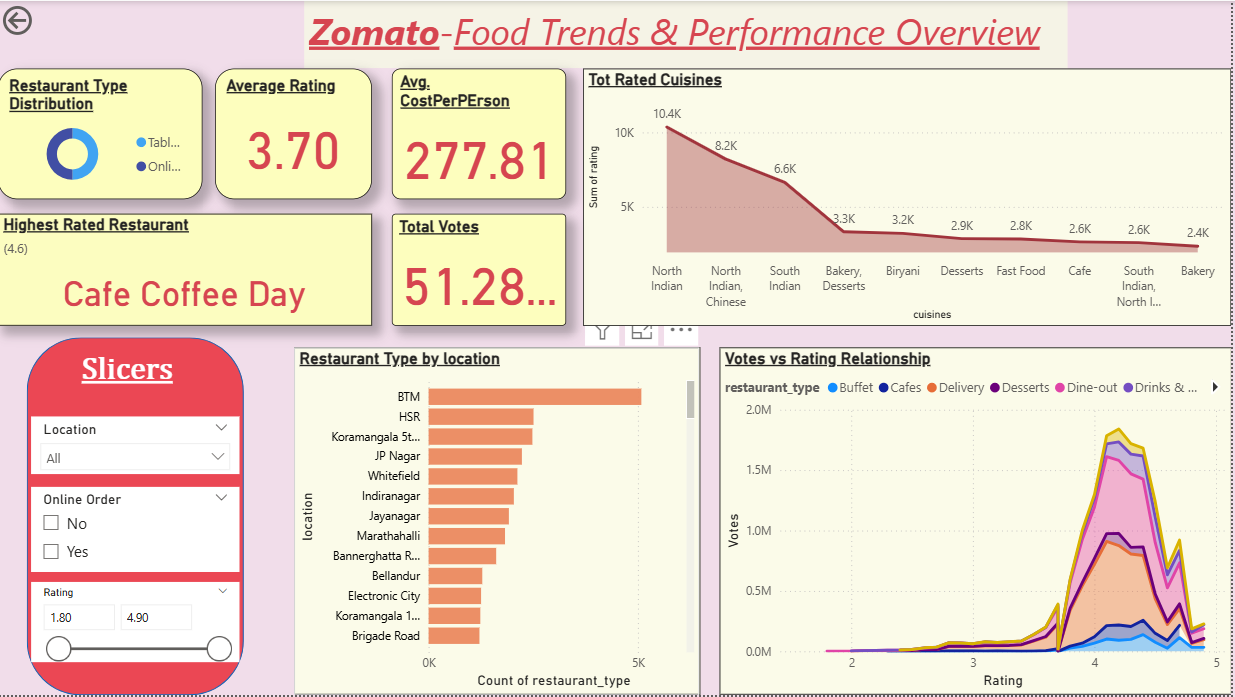

The page's visual inventory and layout, read from the dashboard file:
{"tool":"powerbi","page":{"name":"Page 1","canvas":[1280,720],"ordinal":0},"visuals":[{"type":"donutChart","title":"Restaurant  Type Distribution ","fields":{"Y":["CountNonNull(zomato_clean_data (1).book_table)","CountNonNull(zomato_clean_data (1).online_order)"]},"box":[0,70.1,211.9,135.8],"z":0},{"type":"clusteredBarChart","title":"Restaurant Type by location","fields":{"Category":["zomato_clean_data (1).location"],"Y":["CountNonNull(zomato_clean_data (1).restaurant_type)"]},"box":[306.7,360,421.7,360],"z":1000},{"type":"areaChart","title":"Tot Rated Cuisines","fields":{"Category":["zomato_clean_data (1).cuisines"],"Y":["Sum(zomato_clean_data (1).rating)"]},"box":[607.3,70.1,672.9,267.1],"z":2000},{"type":"textbox","box":[317.6,0,792.2,69.8],"z":3000},{"type":"card","title":"Average Rating","fields":{"Values":["Avg(zomato_clean_data (1).rating)"]},"box":[225.3,70.1,162.6,135.8],"z":4000},{"type":"card","title":"Avg. CostPerPErson","fields":{"Values":["Avg(zomato_clean_data (1).cost_per_person)"]},"box":[408.8,70.1,180.5,135.8],"z":5000},{"type":"card","title":"Highest Rated Restaurant","fields":{"Values":["Min(zomato_clean_data (1).restaurant_name)"]},"box":[0,220.8,387.9,116.4],"z":6000},{"type":"card","title":"Total Votes","fields":{"Values":["CountNonNull(zomato_clean_data (1).votes)"]},"box":[408.8,220.8,180.5,116.4],"z":7000},{"type":"actionButton","box":[0,0,100,40],"z":8000},{"type":"stackedAreaChart","title":"Votes vs Rating Relationship","fields":{"Category":["zomato_clean_data (1).rating"],"Y":["Sum(zomato_clean_data (1).votes)"],"Series":["zomato_clean_data (1).restaurant_type"]},"box":[748.3,360,531.7,360],"z":9000},{"type":"shape","box":[29.8,349.1,225.3,371.5],"z":10000},{"type":"textbox","box":[64.2,359.6,147.7,56.7],"z":11000},{"type":"slicer","fields":{"Values":["zomato_clean_data (1).location"]},"box":[34.3,431.2,216.3,59.7],"z":12000},{"type":"slicer","fields":{"Values":["zomato_clean_data (1).online_order"]},"box":[34.3,504.3,216.3,88],"z":13000},{"type":"slicer","fields":{"Values":["zomato_clean_data (1).rating"]},"box":[34.3,602.8,216.3,83.6],"z":14000}]}

Visuals, with their boxes in screenshot pixels (x1, y1, x2, y2), scaled from the page's 1280x720 canvas onto the 1235x697 screenshot:
"Restaurant  Type Distribution " donutChart: 0,68,204,199
"Restaurant Type by location" clusteredBarChart: 296,348,703,696
"Tot Rated Cuisines" areaChart: 586,68,1234,326
textbox: 306,0,1071,68
"Average Rating" card: 217,68,374,199
"Avg. CostPerPErson" card: 394,68,569,199
"Highest Rated Restaurant" card: 0,214,374,326
"Total Votes" card: 394,214,569,326
actionButton: 0,0,96,39
"Votes vs Rating Relationship" stackedAreaChart: 722,348,1234,696
shape: 29,338,246,696
textbox: 62,348,204,403
slicer - zomato_clean_data (1).location: 33,417,242,475
slicer - zomato_clean_data (1).online_order: 33,488,242,573
slicer - zomato_clean_data (1).rating: 33,584,242,664
